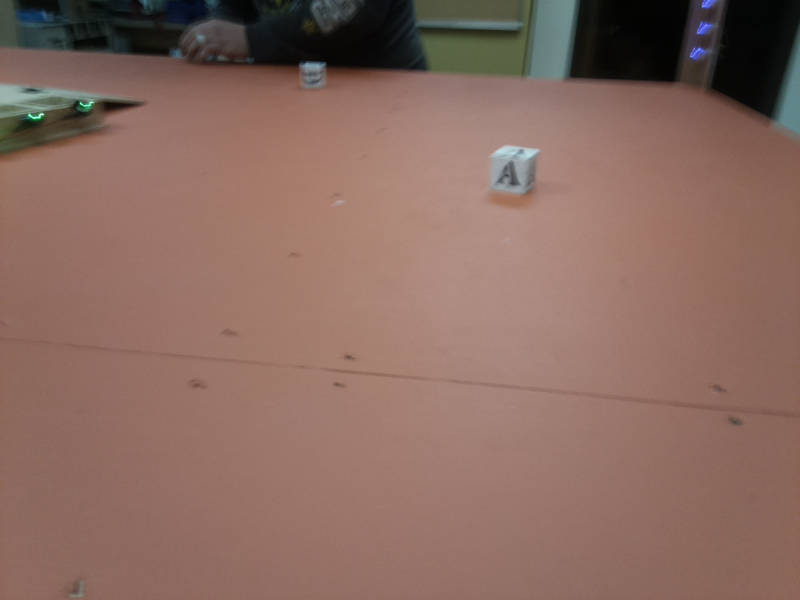blockA: (488, 144, 537, 198)
blockD: (297, 60, 328, 96)
corner: (671, 1, 722, 97)
side: (1, 97, 108, 153)
slope: (36, 78, 147, 113)
